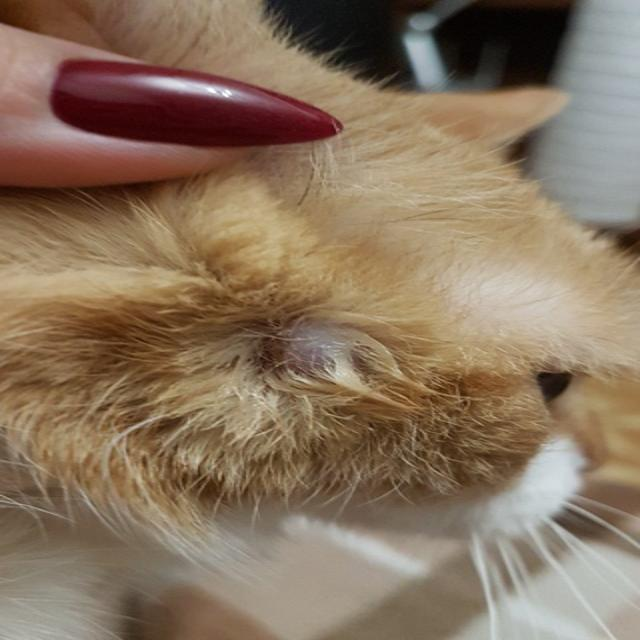lump_and_bump: (295, 325, 363, 380)
